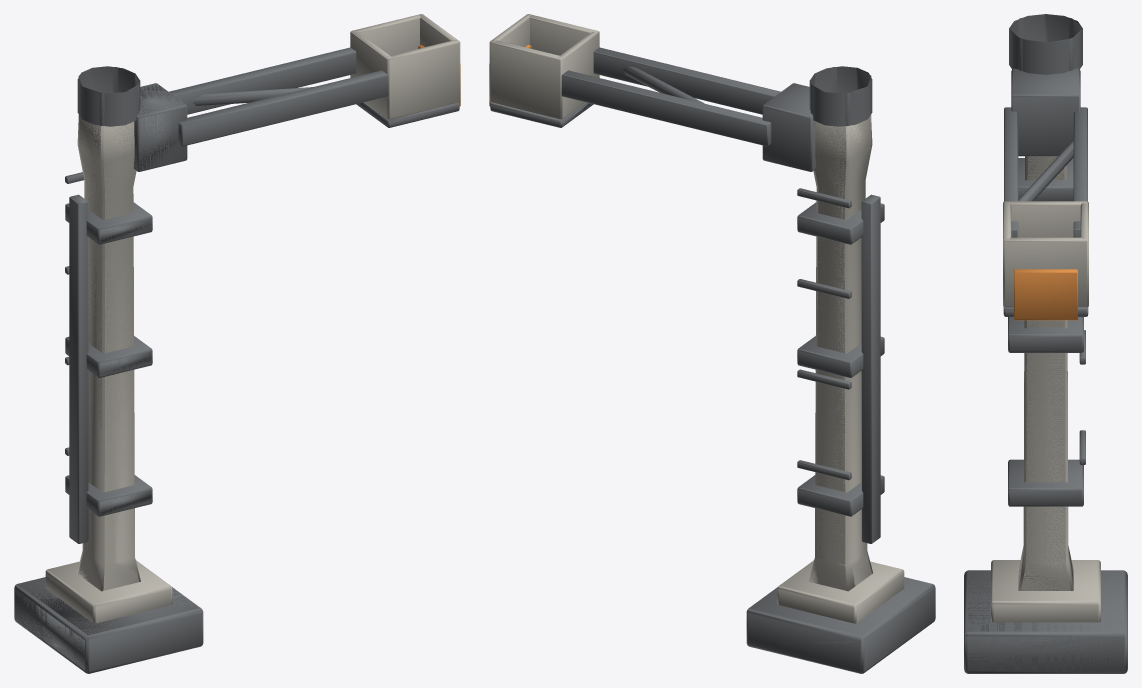
Rendered from place_lane_beacon.glb.
The picture shows the model from 3 angles, left to right: view 1: azimuth 30°, elevation 25°; view 2: azimuth 150°, elevation 25°; view 3: azimuth 270°, elevation 25°; orthographic projection. The views are drawn at different scales.
Parts seen in each view (by area): view 1: LOD0_Merged_Material_Mechanical, LOD0_Merged_Material_Hull, LOD2_Merged_Material_Hull, LOD2_Merged_Material_Mechanical, LOD1_Merged_Material_Mechanical; view 2: LOD0_Merged_Material_Mechanical, LOD0_Merged_Material_Hull, LOD2_Merged_Material_Hull, LOD1_Merged_Material_Mechanical; view 3: LOD0_Merged_Material_Mechanical, LOD0_Merged_Material_Hull, LOD2_Merged_Material_Hull, LOD1_Merged_Material_Mechanical, LOD0_Merged_Material_Warm, LOD2_Merged_Material_Mechanical, LOD1_Merged_Material_Hull.
Part boxes in pixels (bbox=[...]): LOD0_Merged_Material_Mechanical: bbox=[14, 47, 459, 673]; LOD0_Merged_Material_Hull: bbox=[45, 14, 460, 623]; LOD2_Merged_Material_Hull: bbox=[77, 115, 140, 591]; LOD2_Merged_Material_Mechanical: bbox=[17, 67, 199, 669]; LOD1_Merged_Material_Mechanical: bbox=[15, 52, 459, 673]; LOD0_Merged_Material_Mechanical: bbox=[490, 47, 935, 673]; LOD0_Merged_Material_Hull: bbox=[489, 14, 904, 623]; LOD2_Merged_Material_Hull: bbox=[809, 115, 872, 591]; LOD1_Merged_Material_Mechanical: bbox=[490, 52, 934, 673]; LOD0_Merged_Material_Mechanical: bbox=[964, 14, 1127, 673]; LOD0_Merged_Material_Hull: bbox=[991, 156, 1100, 622]; LOD2_Merged_Material_Hull: bbox=[1018, 156, 1073, 590]; LOD1_Merged_Material_Mechanical: bbox=[965, 14, 1126, 673]; LOD0_Merged_Material_Warm: bbox=[1014, 269, 1077, 320]; LOD2_Merged_Material_Mechanical: bbox=[968, 14, 1121, 670]; LOD1_Merged_Material_Hull: bbox=[991, 202, 1100, 621].
Size of the model in its own units: 10.85 by 14.5 by 3.5.
